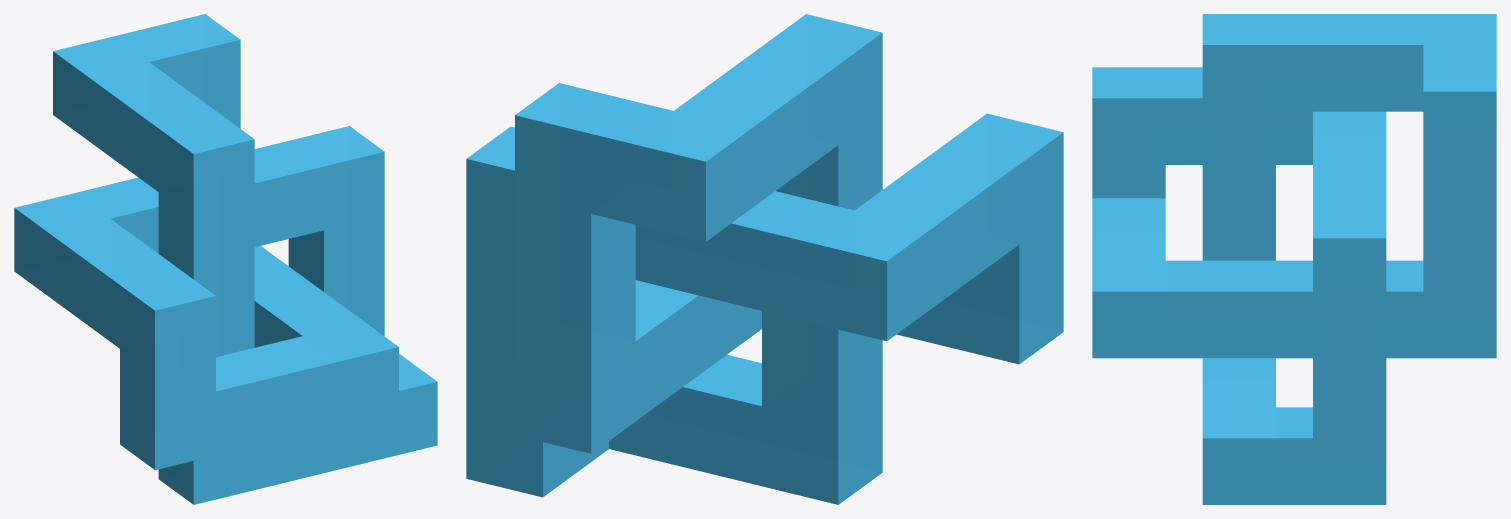
File: HexagonalToroid_U.obj
3 renders of one model, left to right at view 1: azimuth 30°, elevation 25°; view 2: azimuth 150°, elevation 25°; view 3: azimuth 270°, elevation 25°, orthographic. The views are drawn at different scales.
Size of the model in its own units: 22 by 22 by 22.
